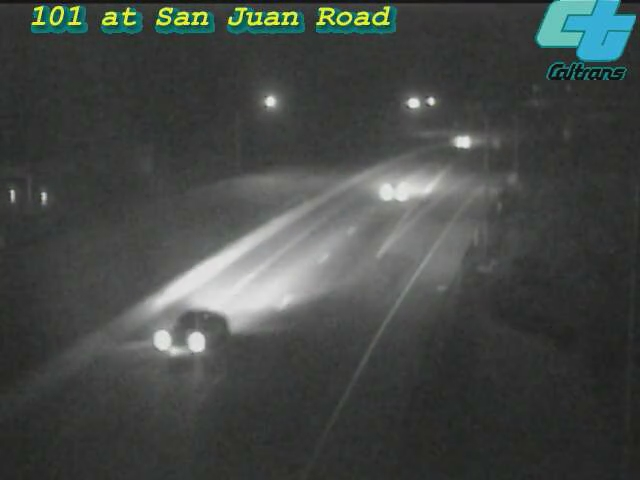vehicle: (153, 273, 263, 383), (354, 151, 434, 231), (439, 116, 489, 166)
